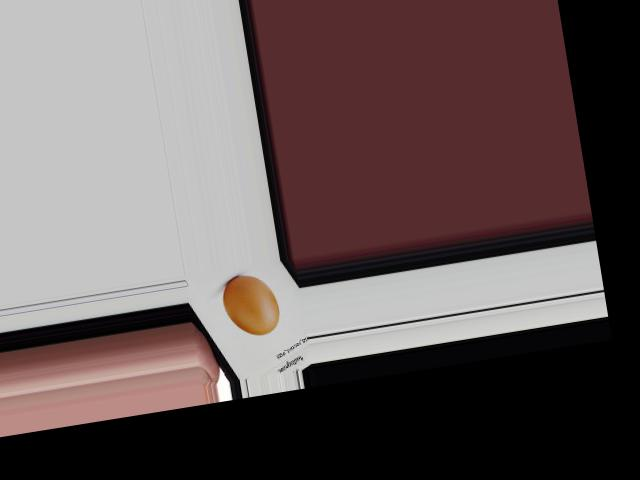egg: (219, 270, 281, 340)
